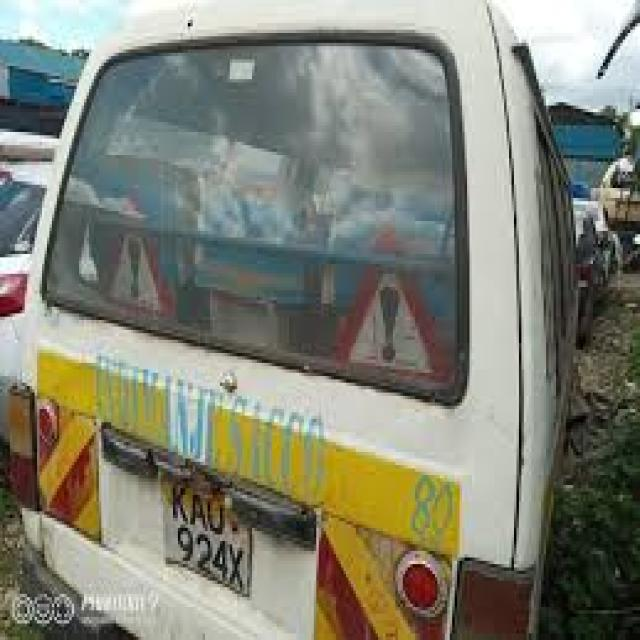matatu: (1, 0, 604, 640)
